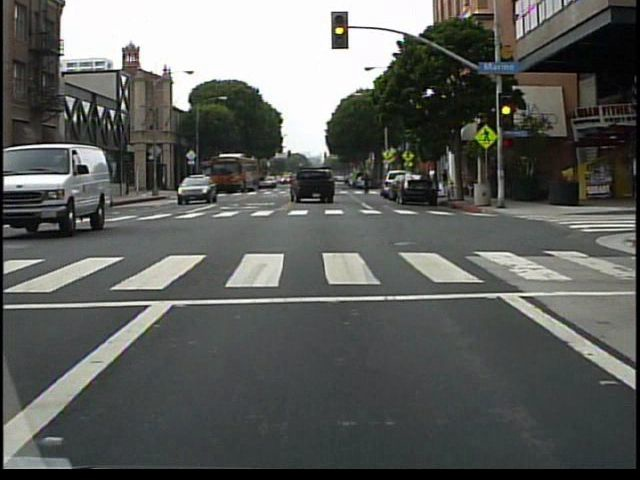person: (100, 169, 115, 202)
